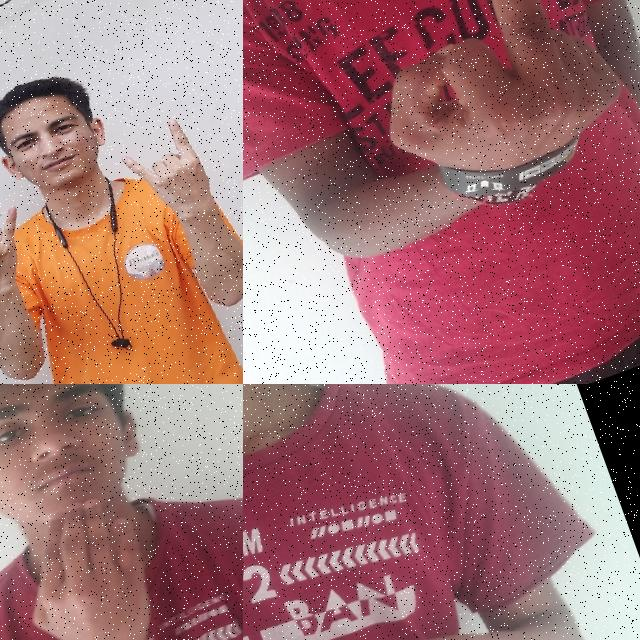Chin Flick: (0, 384, 241, 640)
Corna: (107, 108, 224, 232), (0, 176, 48, 308)
Dulya: (251, 588, 511, 640)
Middle Finger: (332, 0, 640, 238)
